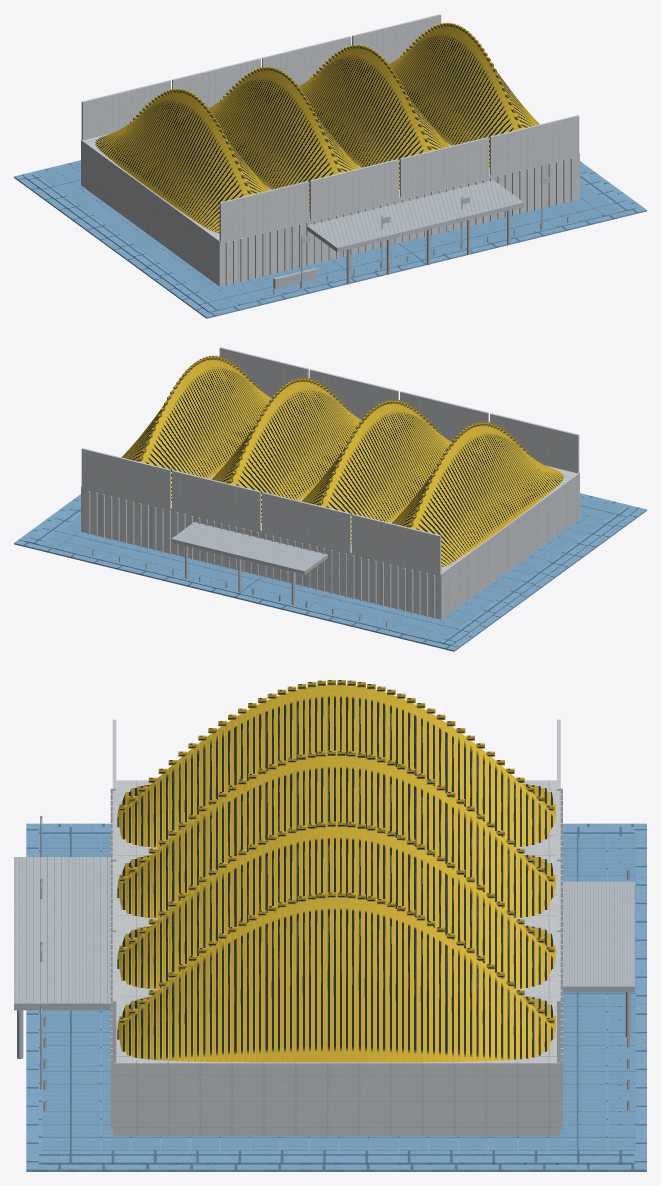
The picture shows the model from 3 angles, top to bottom: view 1: azimuth 30°, elevation 25°; view 2: azimuth 150°, elevation 25°; view 3: azimuth 270°, elevation 25°; orthographic projection. The views are drawn at different scales.
Visible parts, largest first — view 1: 28185_01_21998_003_02__folded_shell_roof, 28185_01_21998_003_03__curtain_wall, 28185_01_21998_003_01__plaza_base, 28185_01_21998_003_04__canopy_signage; view 2: 28185_01_21998_003_02__folded_shell_roof, 28185_01_21998_003_03__curtain_wall, 28185_01_21998_003_01__plaza_base, 28185_01_21998_003_04__canopy_signage; view 3: 28185_01_21998_003_02__folded_shell_roof, 28185_01_21998_003_01__plaza_base, 28185_01_21998_003_03__curtain_wall, 28185_01_21998_003_04__canopy_signage.
Boxes of the visible parts, x1,y1,x2,y2 form: 28185_01_21998_003_02__folded_shell_roof: (95, 22, 539, 233); 28185_01_21998_003_03__curtain_wall: (81, 14, 579, 286); 28185_01_21998_003_01__plaza_base: (14, 160, 646, 318); 28185_01_21998_003_04__canopy_signage: (273, 177, 568, 294); 28185_01_21998_003_02__folded_shell_roof: (121, 355, 564, 566); 28185_01_21998_003_03__curtain_wall: (81, 347, 579, 619); 28185_01_21998_003_01__plaza_base: (14, 493, 646, 651); 28185_01_21998_003_04__canopy_signage: (92, 522, 387, 627); 28185_01_21998_003_02__folded_shell_roof: (117, 680, 555, 1062); 28185_01_21998_003_01__plaza_base: (26, 823, 646, 1171); 28185_01_21998_003_03__curtain_wall: (110, 719, 562, 1136); 28185_01_21998_003_04__canopy_signage: (14, 815, 634, 1110).
Bounding box in the file's own units: 66 × 18.85 × 51.
Materials: 4 (4 with a texture image).
